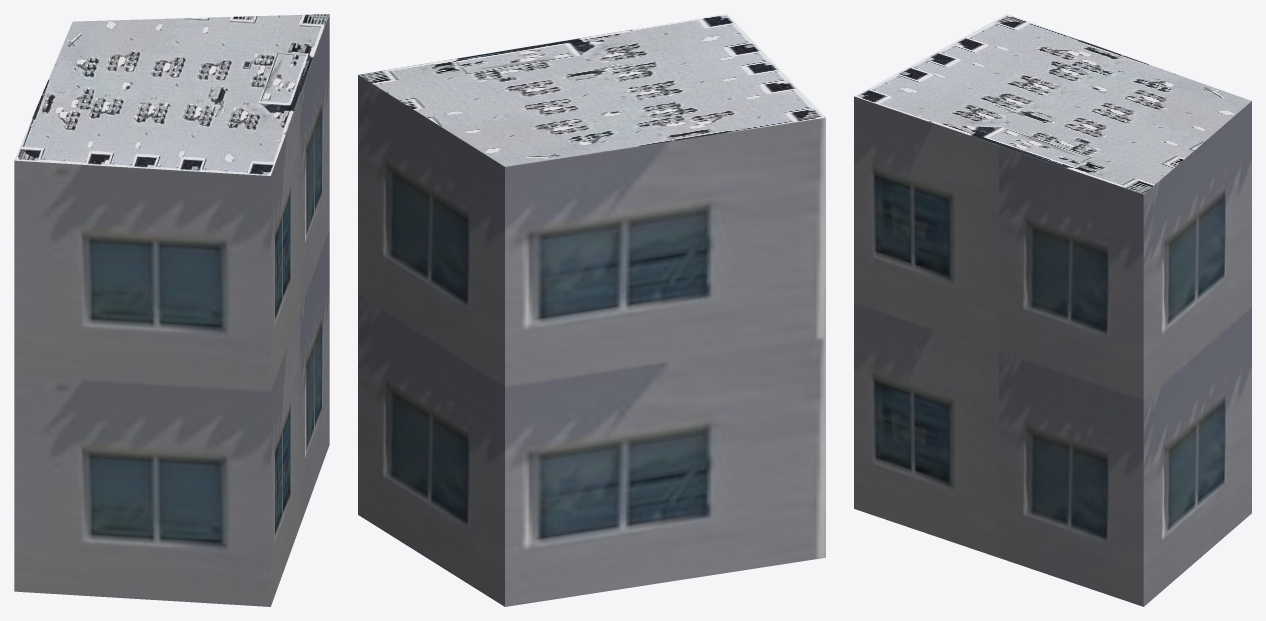
File: ResTex__374.fbx
3 renders of one model, left to right at view 1: azimuth 30°, elevation 25°; view 2: azimuth 150°, elevation 25°; view 3: azimuth 270°, elevation 25°, orthographic. The views are drawn at different scales.
Parts seen in each view (by area): view 1: CityEngineMaterial_10_m, CityEngineMaterial_8_m; view 2: CityEngineMaterial_10_m, CityEngineMaterial_8_m; view 3: CityEngineMaterial_10_m, CityEngineMaterial_8_m.
Boxes of the visible parts, x1,y1,x2,y2 form: CityEngineMaterial_10_m: [14, 14, 329, 606]; CityEngineMaterial_8_m: [14, 14, 329, 175]; CityEngineMaterial_10_m: [358, 75, 825, 606]; CityEngineMaterial_8_m: [358, 14, 825, 166]; CityEngineMaterial_10_m: [854, 96, 1251, 606]; CityEngineMaterial_8_m: [854, 14, 1251, 194].
Bounding box in the file's own units: 5.63 × 6 × 5.24.
Materials: 2 (2 with a texture image).
